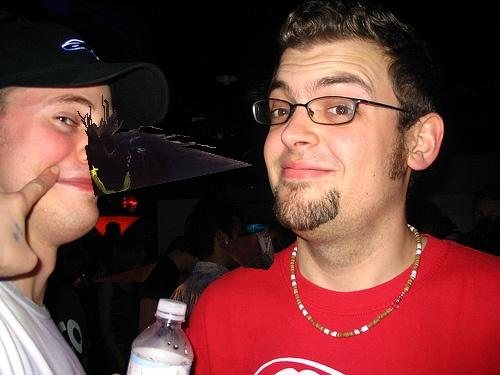tampered: (78, 96, 274, 282)
